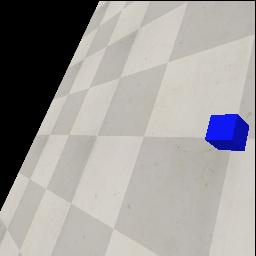box: (205, 114, 249, 151)
